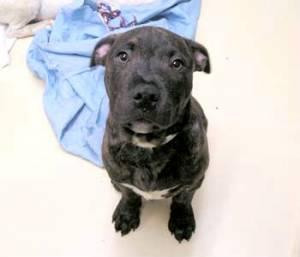dog-american_pit_bull_terrier: (88, 24, 208, 132)
